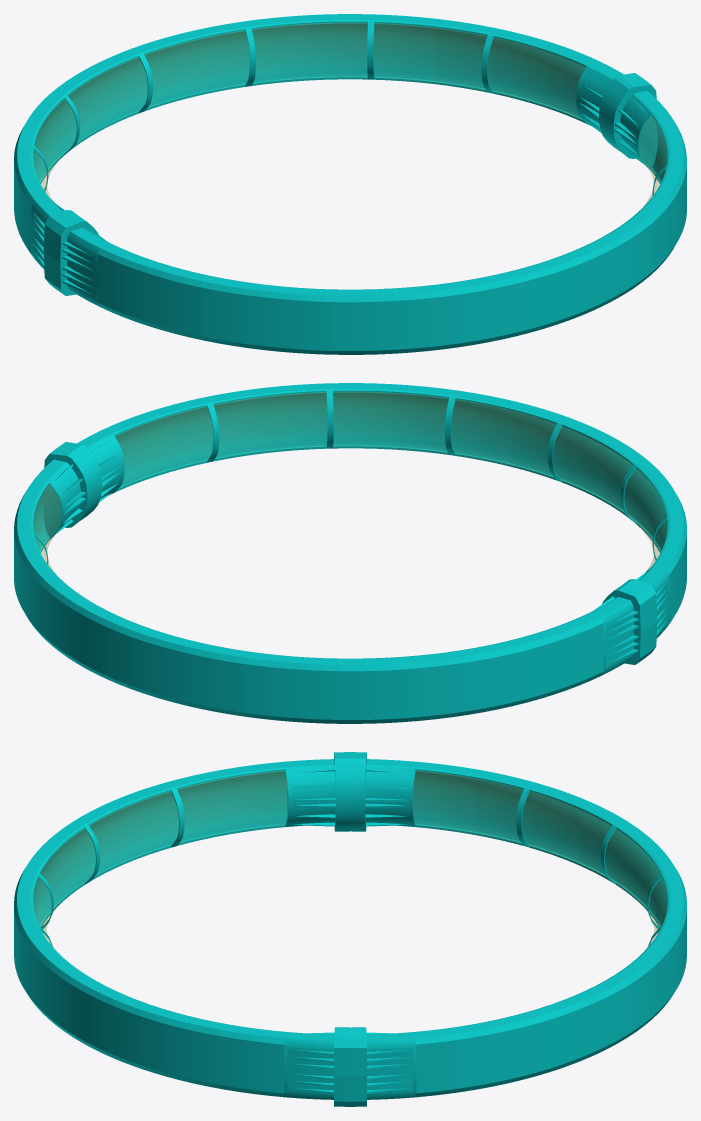
Rendered from station_ring_2-10k.dae.
3 views of the same model, one above another, from view 1: azimuth 30°, elevation 25°; view 2: azimuth 150°, elevation 25°; view 3: azimuth 270°, elevation 25° (orthographic).
Visible parts, largest first — view 1: ring_residental, ring_residental_001, ring_residental_004, Circle_003, ring_residental_003; view 2: ring_residental_001, ring_residental, ring_residental_003, Circle_003, ring_residental_004; view 3: ring_residental_001, ring_residental, Circle_003, ring_residental_003, ring_residental_004.
Boxes of the visible parts, left/top/right/bottom form: ring_residental: left=97, top=109, right=686, bottom=354; ring_residental_001: left=14, top=14, right=600, bottom=256; ring_residental_004: left=34, top=23, right=585, bottom=200; Circle_003: left=31, top=62, right=665, bottom=306; ring_residental_003: left=639, top=116, right=666, bottom=205; ring_residental_001: left=14, top=478, right=603, bottom=723; ring_residental: left=100, top=383, right=686, bottom=625; ring_residental_003: left=115, top=392, right=666, bottom=569; Circle_003: left=35, top=431, right=669, bottom=675; ring_residental_004: left=34, top=485, right=61, bottom=574; ring_residental_001: left=409, top=761, right=686, bottom=1097; ring_residental: left=14, top=761, right=291, bottom=1097; Circle_003: left=284, top=752, right=416, bottom=1106; ring_residental_003: left=33, top=771, right=287, bottom=949; ring_residental_004: left=413, top=771, right=667, bottom=949.
Size of the model in its own units: 10710 by 10436 by 1235.
